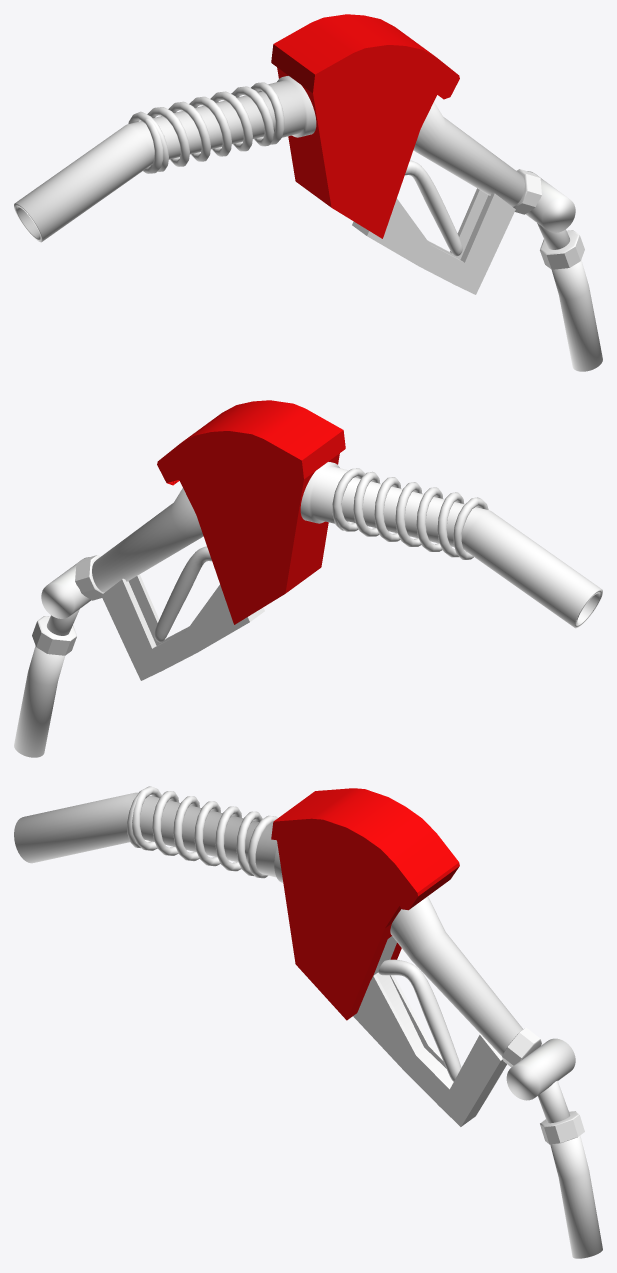
Rendered from Nozzle.fbx.
3 renders of one model, top to bottom at view 1: azimuth 30°, elevation 25°; view 2: azimuth 150°, elevation 25°; view 3: azimuth 330°, elevation 25°, orthographic.
Parts seen in each view (by area): view 1: gas:gas:camera2; view 2: gas:gas:camera2; view 3: gas:gas:camera2.
Part boxes in pixels (box(x1,y1,x2,y2)): gas:gas:camera2: box(14, 14, 602, 371); gas:gas:camera2: box(14, 400, 602, 757); gas:gas:camera2: box(14, 786, 602, 1258).
Size of the model in its own units: 506 by 327 by 63.06.
